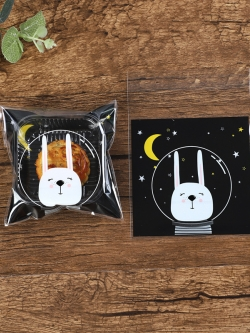Snack: (1, 96, 126, 229)
